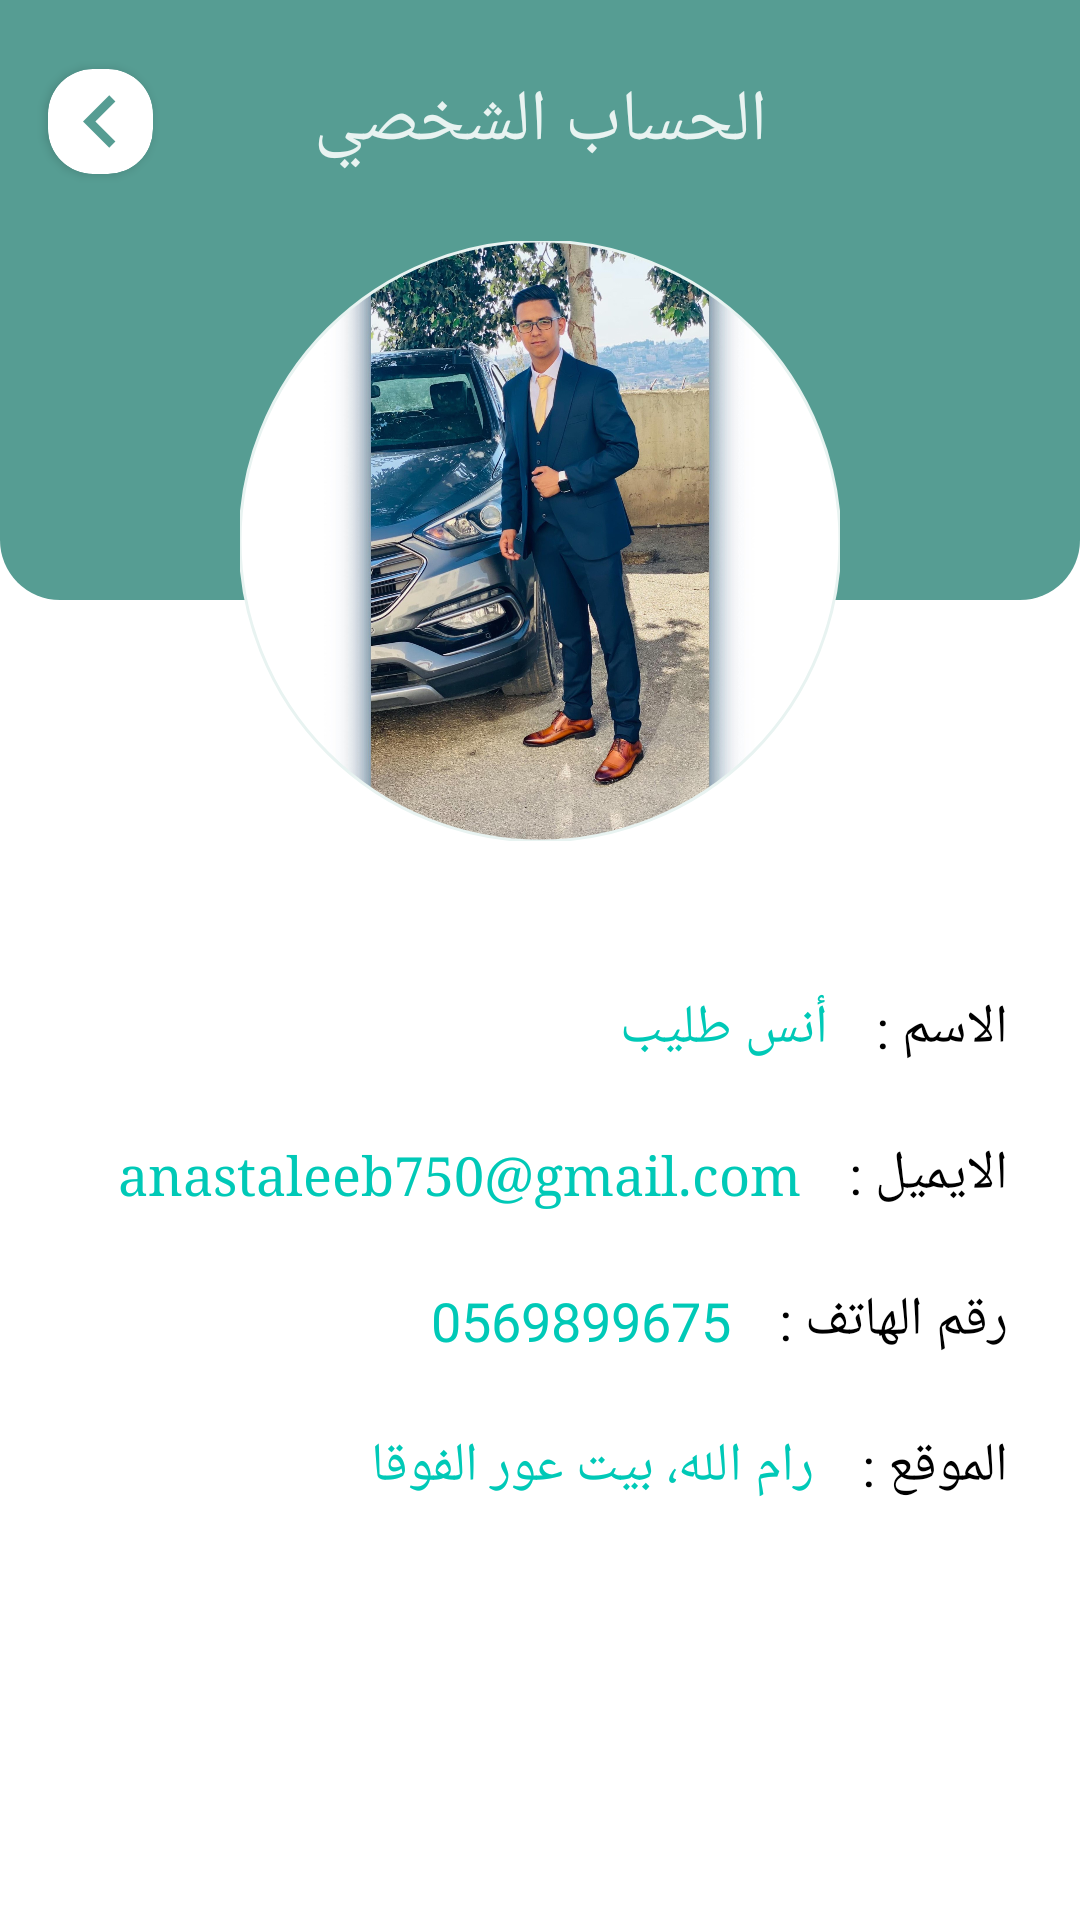

Named icons in this screenshot (1080×1920) and their centers, (x=x, y=y):
keyboard arrow left: (x=100, y=121)
